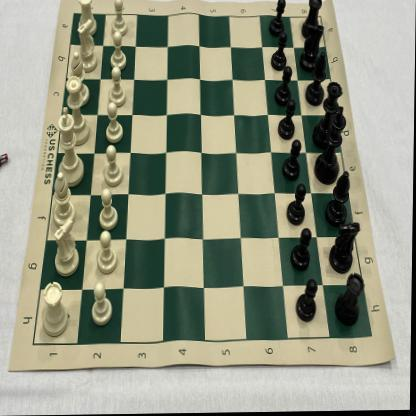black-bishop: (326, 171, 351, 226), (306, 53, 327, 106)
black-king: (314, 106, 345, 185)
black-knight: (330, 224, 361, 274), (300, 25, 325, 72)
black-pawn: (296, 280, 318, 323), (291, 229, 313, 272), (282, 141, 302, 183), (277, 101, 297, 141), (287, 185, 306, 226), (275, 66, 292, 107), (270, 33, 288, 71), (269, 0, 286, 37)
black-queen: (313, 81, 343, 148)
black-rook: (335, 274, 365, 327), (302, 0, 322, 39)
white-bishop: (53, 172, 77, 227), (69, 52, 91, 107)
white-king: (57, 106, 85, 187)
white-knight: (53, 218, 81, 278), (77, 19, 99, 73)
white-pawn: (96, 188, 120, 232), (91, 283, 114, 327), (97, 231, 119, 276), (104, 102, 125, 144), (104, 145, 125, 187), (108, 67, 126, 108), (110, 32, 128, 69), (112, 0, 129, 37)
white-queen: (65, 75, 92, 146)
white-rook: (42, 280, 69, 337), (78, 0, 98, 37)
